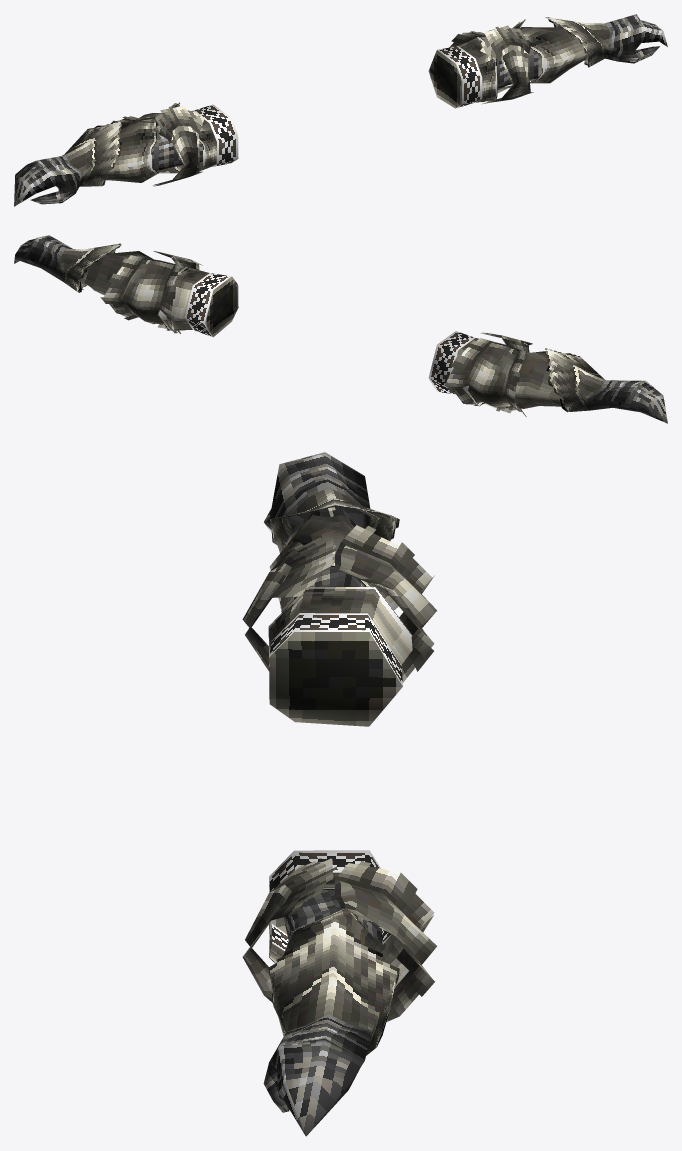
The model's file is f_arm306.glb.
The picture shows the model from 3 angles, top to bottom: view 1: azimuth 30°, elevation 25°; view 2: azimuth 150°, elevation 25°; view 3: azimuth 270°, elevation 25°; orthographic projection. The views are drawn at different scales.
Size of the model in its own units: 174 by 19.62 by 22.67.
1 material, 1 textured.
